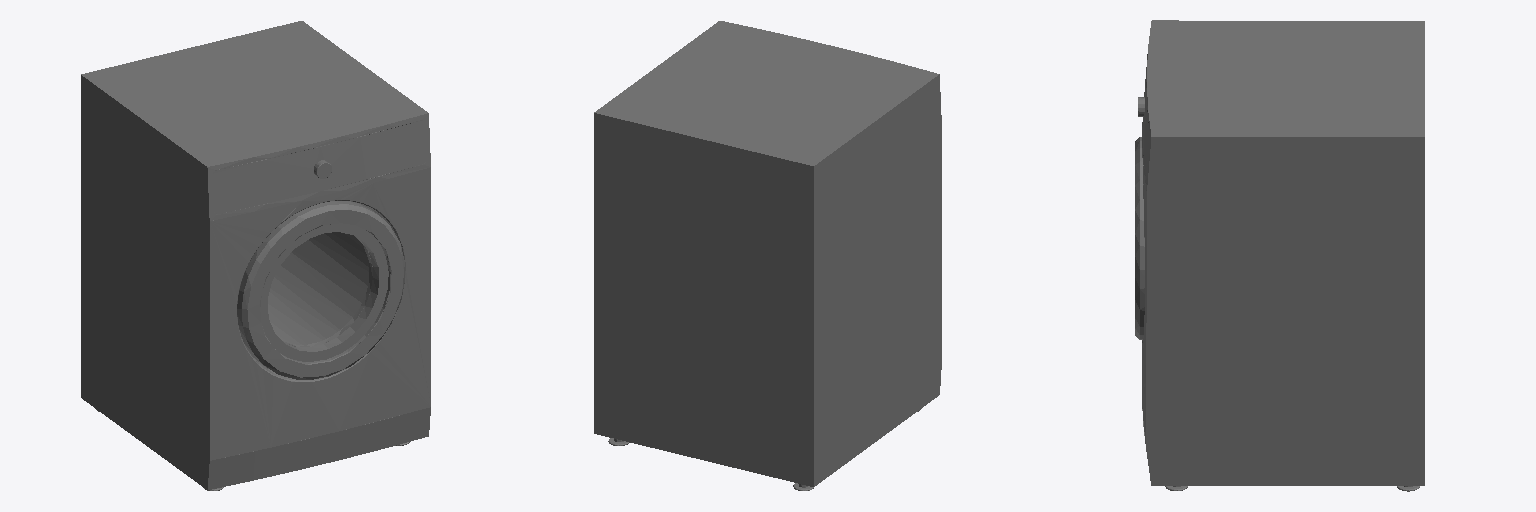
The robot description file, URDF, robot "washing_machine":
<?xml version="1.0"?>
<robot name="washing_machine">
<link name="washing_machine_base_link">
  <inertial>
    <mass value="100.0"/>
    <origin xyz="0 0 0" rpy="0 0 0"/>
    <inertia ixx="0.1" ixy="0" ixz="0" iyy="0.1" iyz="0" izz="0.1"/>
  </inertial>

  <visual>
    <origin xyz="0 0 0" rpy="1.57 0 0"/>
    <geometry>
      <mesh filename="package://meshes/washing_machine.dae" scale="1 1 1"/>
    </geometry>
    <material name="material_name">
      <color rgba="0.5 0.5 0.5 1.0"/>
    </material>
  </visual>

  <collision>
    <origin xyz="0 0 0" rpy="1.57 0 0"/>
    <geometry>
      <mesh filename="package://meshes/washing_machine.dae" scale="1 1 1"/> 
      
      </geometry>
  </collision>
</link>
</robot>

--- Render facts (derived) ---
The picture shows the robot from 3 angles, left to right: view 1: azimuth 30°, elevation 25°; view 2: azimuth 150°, elevation 25°; view 3: azimuth 270°, elevation 25°; orthographic projection.
Robot: washing_machine — 1 links, 0 joints (none); root link washing_machine_base_link; default pose: all joints at 0.
Links seen in each view (by area): view 1: washing_machine_base_link; view 2: washing_machine_base_link; view 3: washing_machine_base_link.
Link boxes in pixels (bbox=[...]): washing_machine_base_link: bbox=[81, 21, 430, 490]; washing_machine_base_link: bbox=[594, 21, 941, 490]; washing_machine_base_link: bbox=[1135, 20, 1424, 491].
Size in the robot's own frame: 0.595 by 0.6255 by 0.8555 metres.
1 mesh visuals loaded from 1 distinct referenced files (1 Collada DAE).
